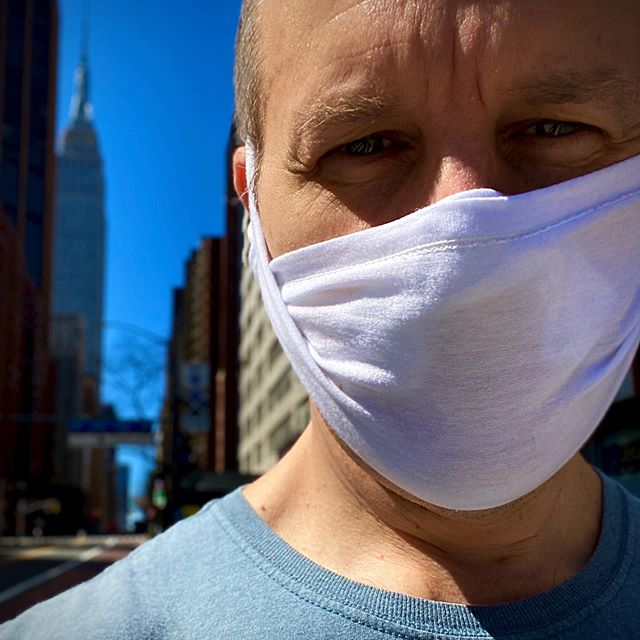homemade: (239, 137, 640, 507)
